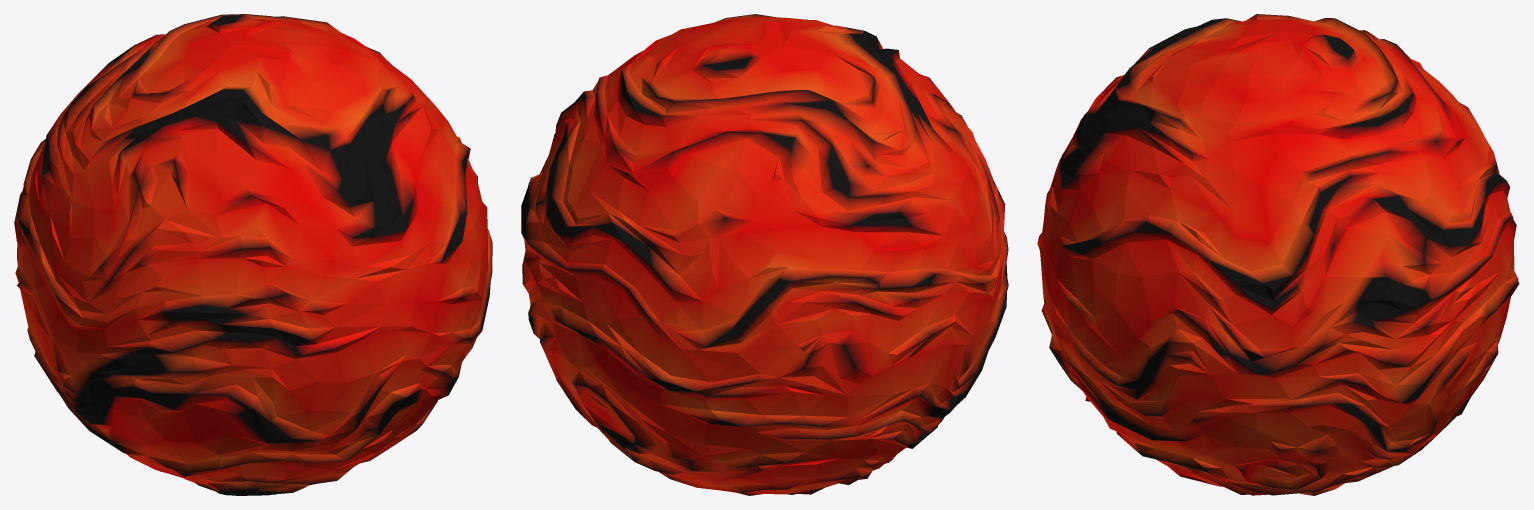
The model's file is volcanic_planet_10.fbx.
3 renders of one model, left to right at view 1: azimuth 30°, elevation 25°; view 2: azimuth 150°, elevation 25°; view 3: azimuth 270°, elevation 25°, orthographic.
Visible parts, largest first — view 1: filecache2; view 2: filecache2; view 3: filecache2.
Part boxes in pixels (<box>): filecache2: <box>14,14,492,495</box>; filecache2: <box>521,14,1008,495</box>; filecache2: <box>1037,14,1519,495</box>.
Size of the model in its own units: 2.03 by 2.02 by 2.03.
